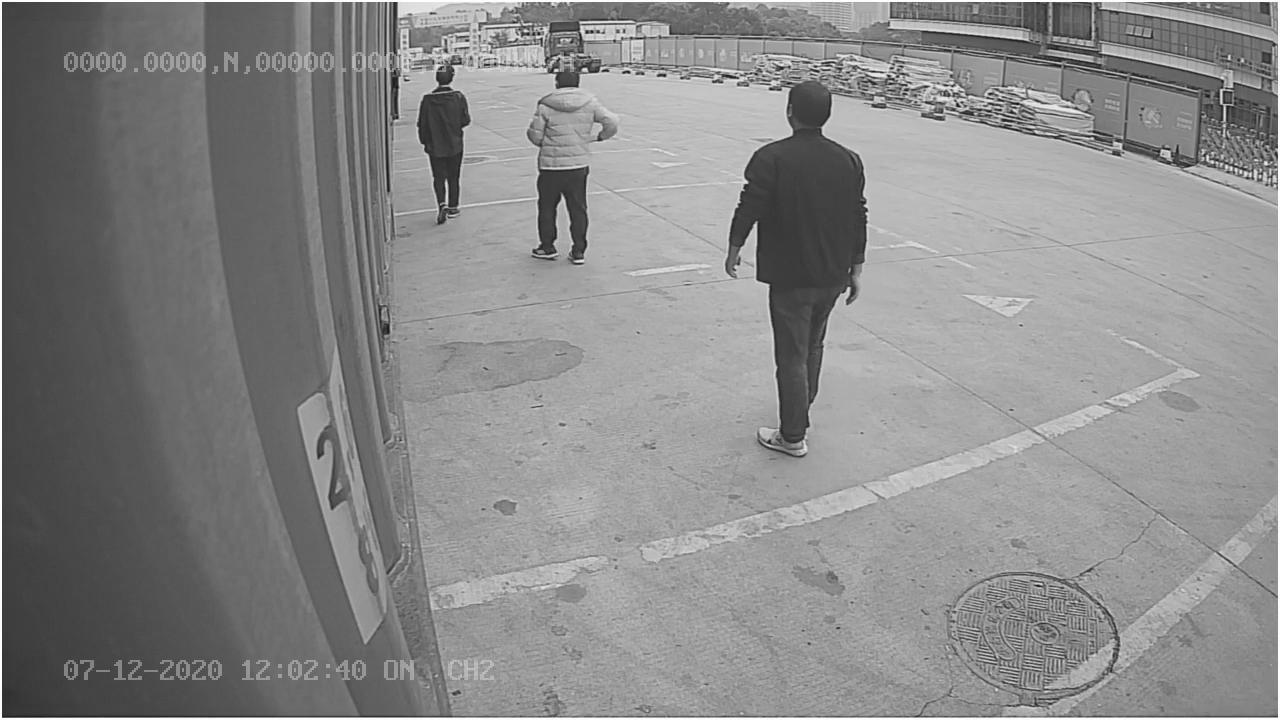person: (725, 76, 875, 456), (513, 60, 622, 264)
